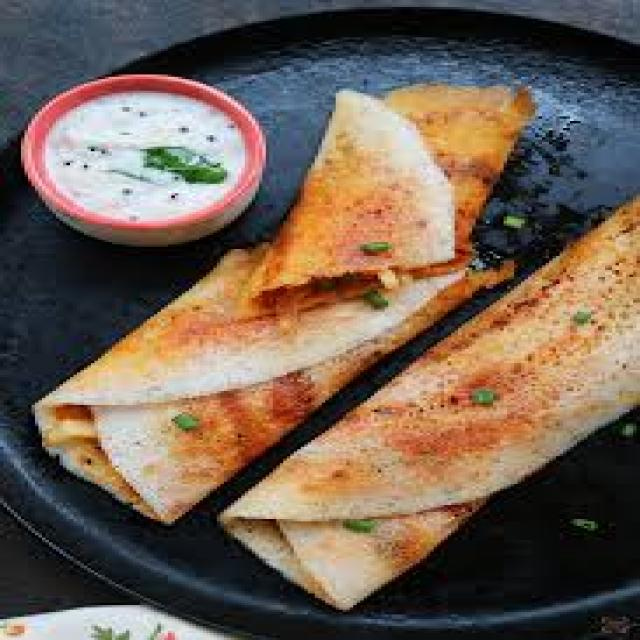DOSA: (26, 87, 531, 522), (220, 198, 637, 607)
